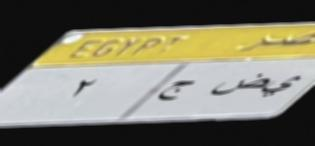2: (70, 75, 99, 102)
daad: (209, 68, 267, 101)
jeem: (157, 73, 195, 106)
yaa: (265, 72, 300, 100)
